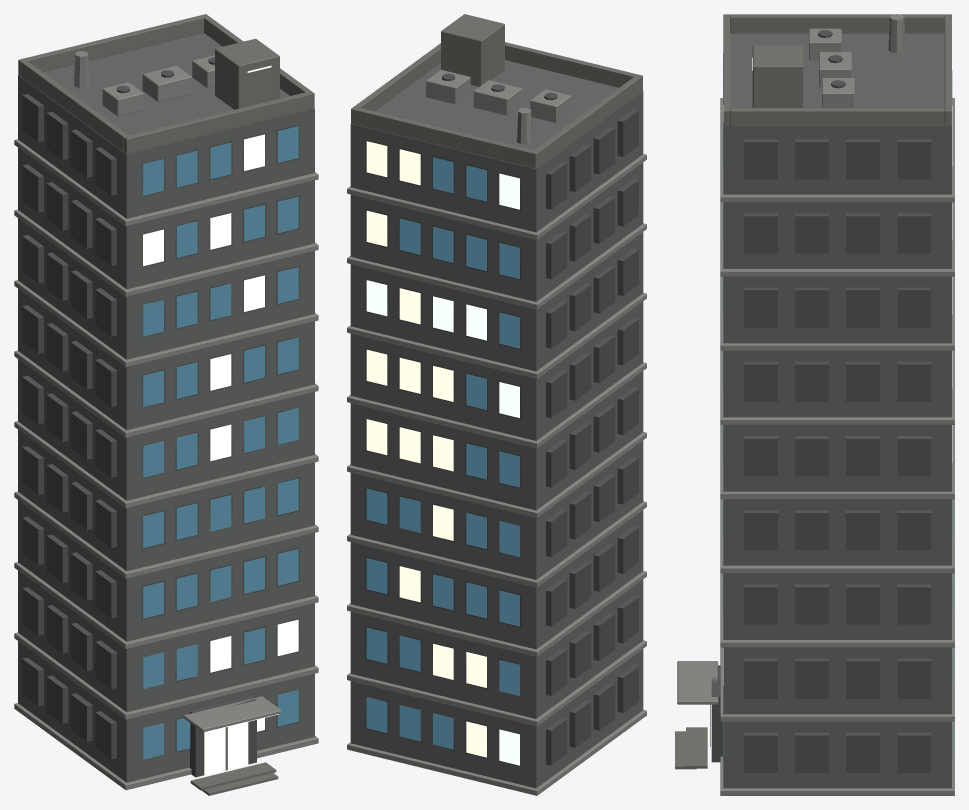
File: office_block_b.glb
The picture shows the model from 3 angles, left to right: view 1: azimuth 30°, elevation 25°; view 2: azimuth 150°, elevation 25°; view 3: azimuth 270°, elevation 25°; orthographic projection. The views are drawn at different scales.
Parts seen in each view (by area): view 1: office_block_b_Graphite@utility, office_block_b_DarkAlloy@utility, office_block_b_Steel@utility, office_block_b_BlackGlass, office_block_b_Concrete@utility, office_block_b_WarmGlass, office_block_b_CoolGlass; view 2: office_block_b_Graphite@utility, office_block_b_DarkAlloy@utility, office_block_b_Steel@utility, office_block_b_BlackGlass, office_block_b_Concrete@utility, office_block_b_WarmGlass, office_block_b_CoolGlass; view 3: office_block_b_Graphite@utility, office_block_b_DarkAlloy@utility, office_block_b_Steel@utility, office_block_b_Concrete@utility, office_block_b_BlackGlass.
Part boxes in pixels (left/top/right/bottom): office_block_b_Graphite@utility: left=18, top=33, right=314, bottom=782; office_block_b_DarkAlloy@utility: left=22, top=57, right=299, bottom=777; office_block_b_Steel@utility: left=14, top=51, right=318, bottom=790; office_block_b_BlackGlass: left=143, top=126, right=298, bottom=759; office_block_b_Concrete@utility: left=18, top=14, right=314, bottom=795; office_block_b_WarmGlass: left=143, top=134, right=264, bottom=775; office_block_b_CoolGlass: left=277, top=619, right=298, bottom=655; office_block_b_Graphite@utility: left=350, top=60, right=643, bottom=788; office_block_b_DarkAlloy@utility: left=365, top=73, right=638, bottom=765; office_block_b_Steel@utility: left=347, top=70, right=646, bottom=795; office_block_b_BlackGlass: left=366, top=157, right=519, bottom=749; office_block_b_Concrete@utility: left=351, top=14, right=642, bottom=168; office_block_b_WarmGlass: left=366, top=141, right=486, bottom=757; office_block_b_CoolGlass: left=366, top=173, right=519, bottom=765; office_block_b_Graphite@utility: left=723, top=33, right=951, bottom=788; office_block_b_DarkAlloy@utility: left=711, top=30, right=931, bottom=772; office_block_b_Steel@utility: left=677, top=14, right=954, bottom=795; office_block_b_Concrete@utility: left=675, top=14, right=951, bottom=769; office_block_b_BlackGlass: left=723, top=53, right=952, bottom=759.
Size of the model in its own units: 10.06 by 33.13 by 11.62.
